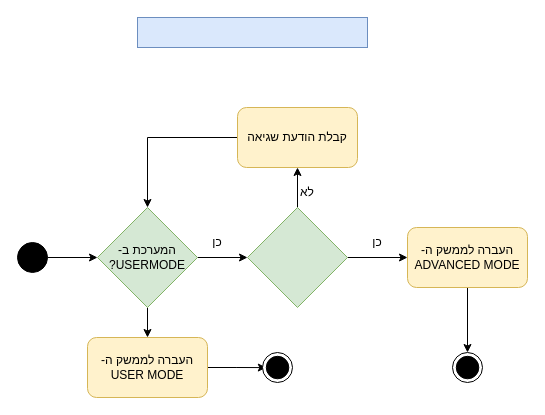
This 545x415 diagram has some shape labels left out. Each missing label, with the centre of its shape:
"חומת האש פעיל?" belongs at pixel 297 257.
"שינוי ממשק המשתמש" belongs at pixel 252 32.
